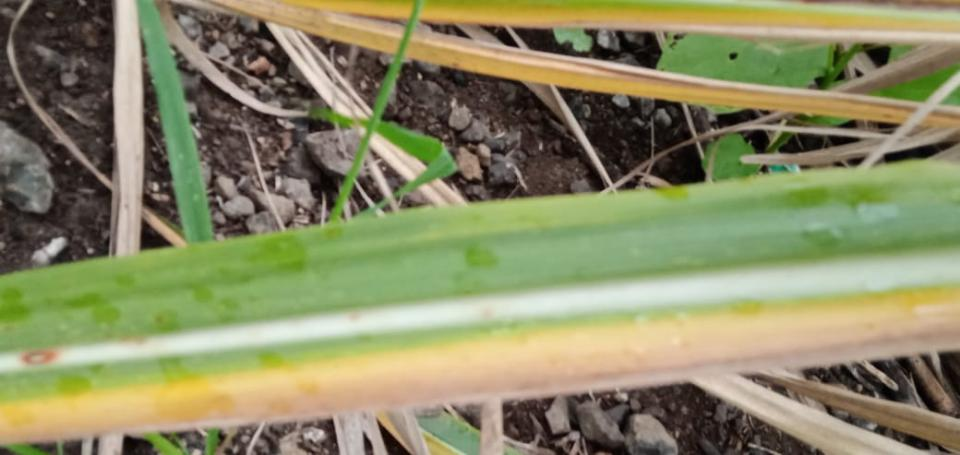RedRot: (16, 349, 59, 366)
Yellow: (1, 286, 960, 447), (214, 0, 959, 127), (284, 0, 959, 34)
